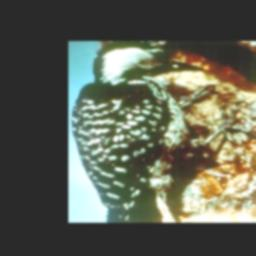Woodpecker: (72, 42, 256, 222)
